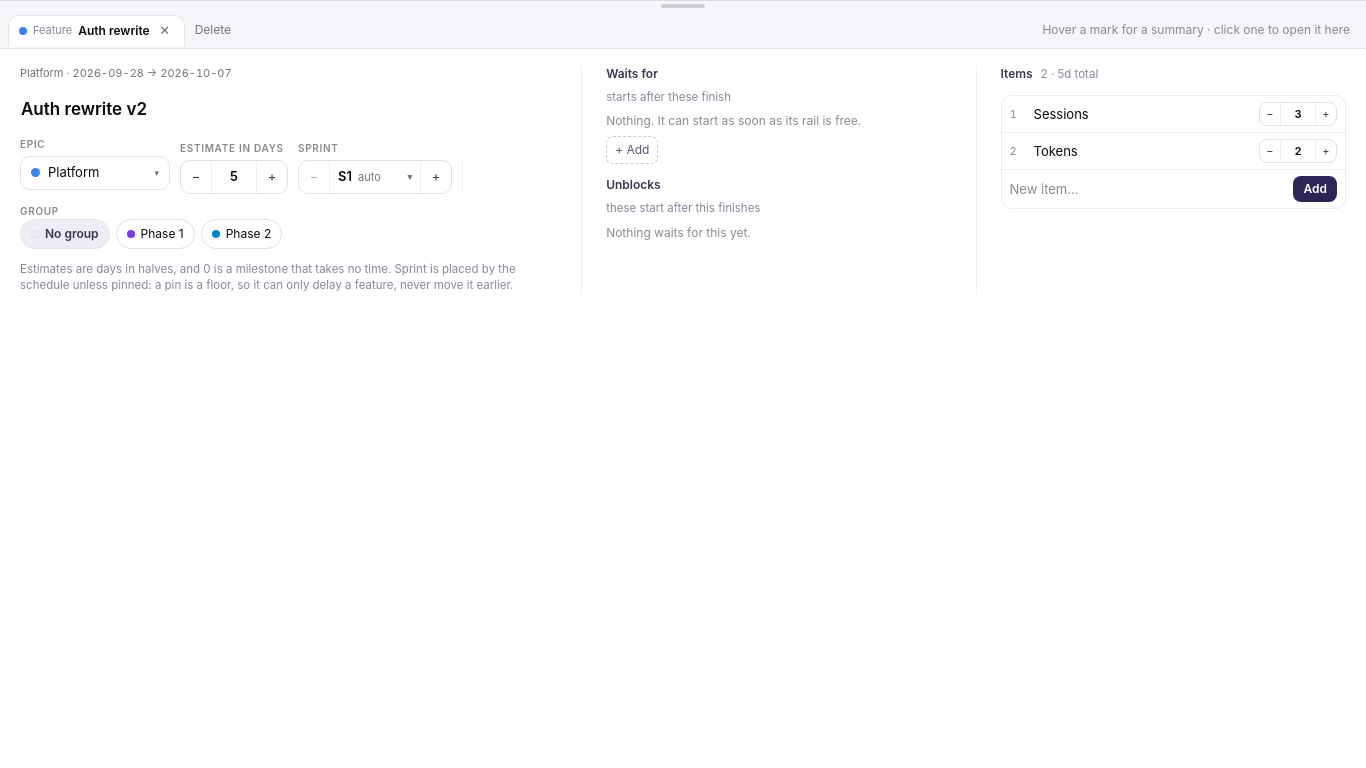
Test: the delete, and the fact that the kind picks the write rather than a caller › quotes the subject’s stored name, which is the value the field edits
Step 1. Click the button "Delete" → (213, 30), box [189,18,237,40]
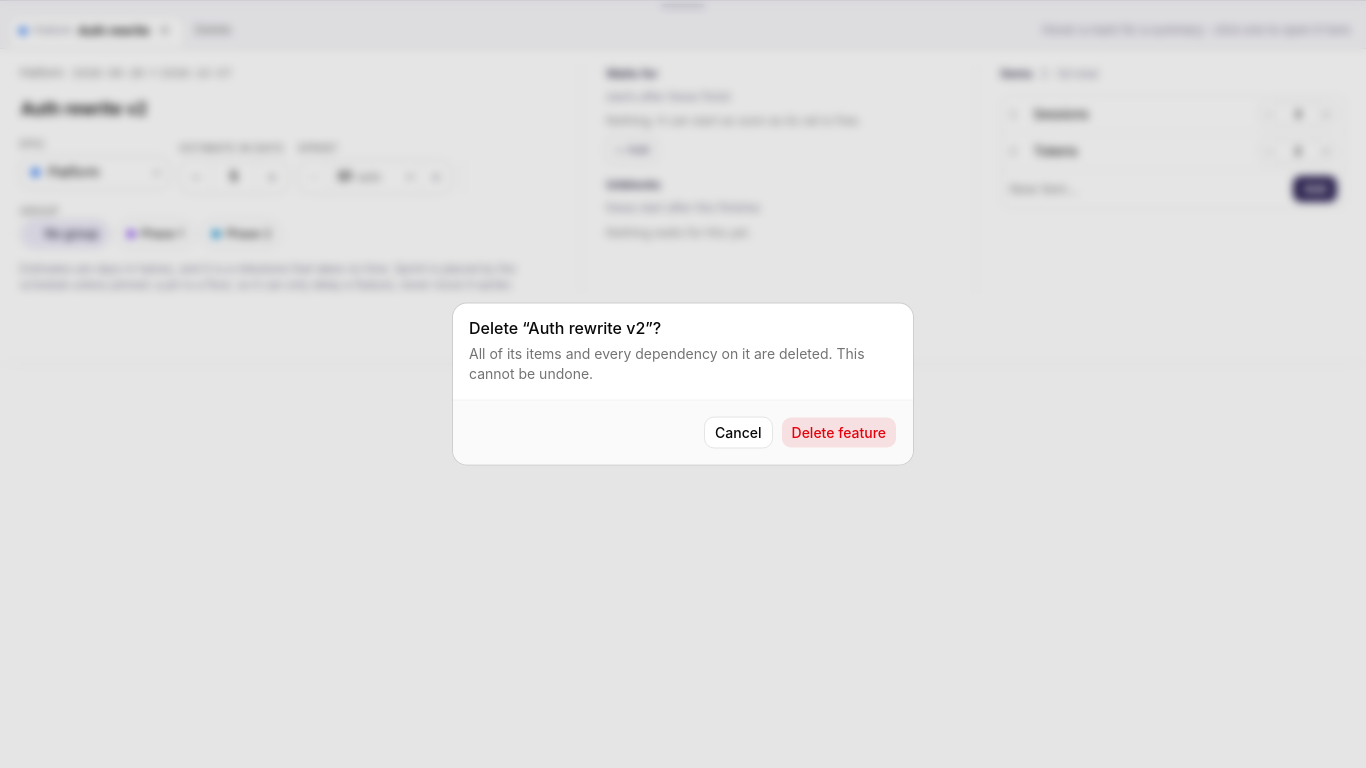
Now the heading "Delete “Auth rewrite v2”?" is shown, box [469,318,661,338]
